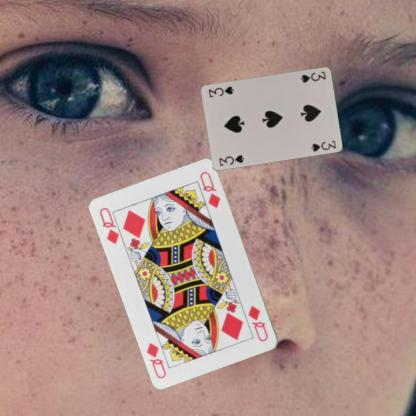3s: (216, 152, 246, 167), (298, 69, 327, 84)
Qd: (97, 204, 127, 245), (245, 303, 270, 343)
